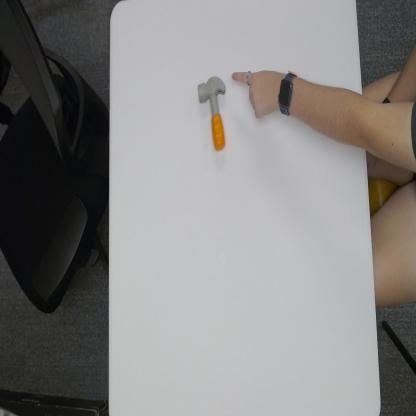Arm: (298, 73, 364, 149)
Hammer: (197, 75, 229, 150)
Hand: (231, 66, 278, 119)
